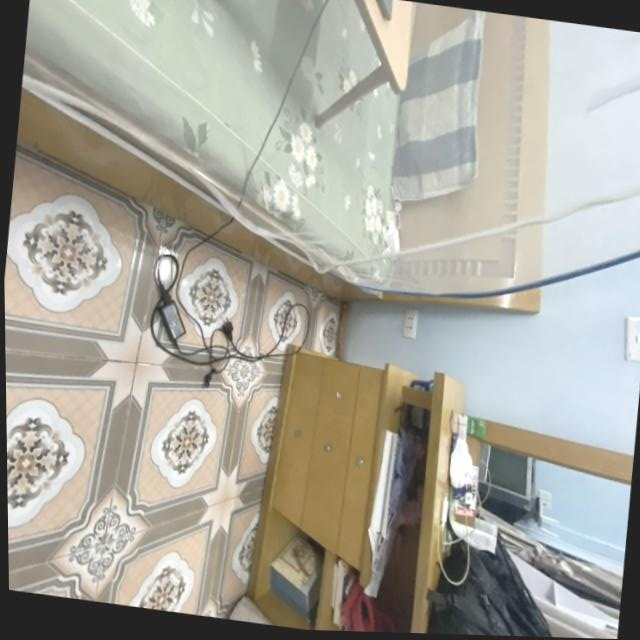outlet: (402, 307, 420, 339)
